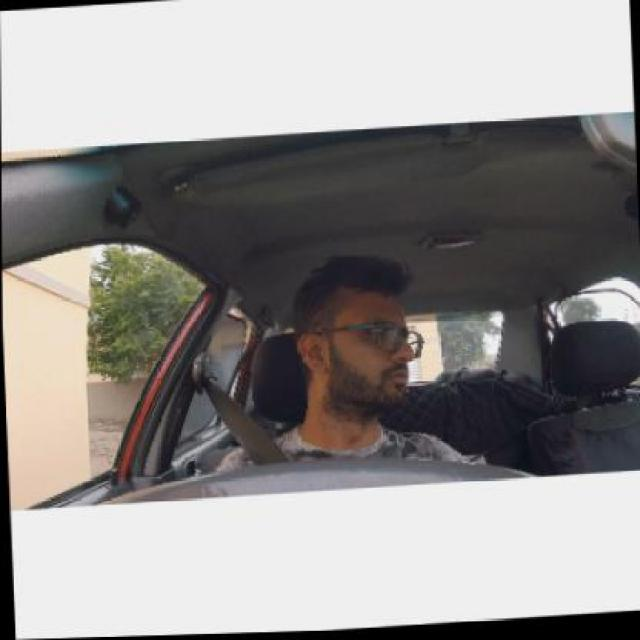LeftRight: (292, 252, 424, 420)
